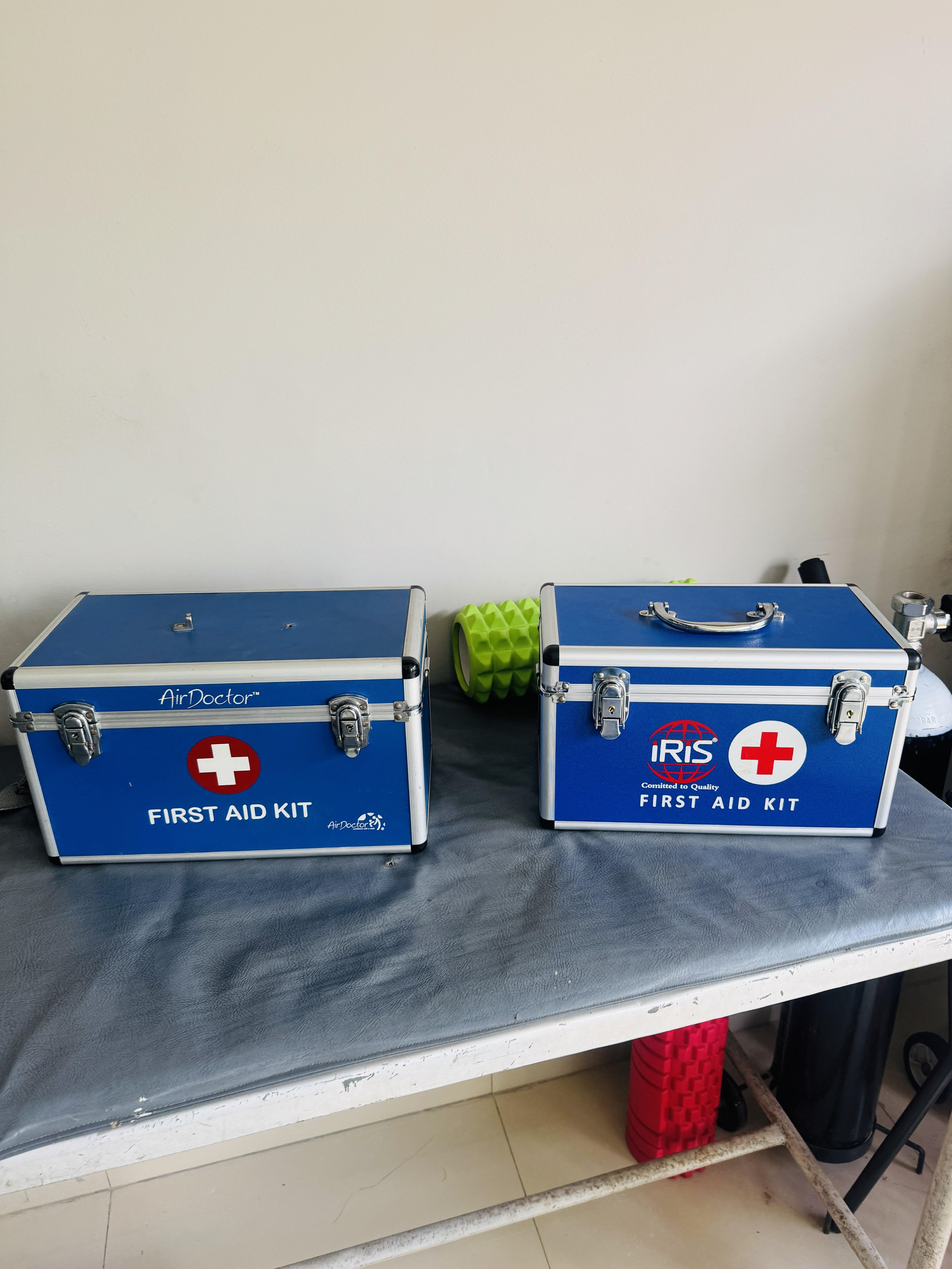FirstAidBox: (0, 574, 455, 892), (521, 562, 933, 862)
